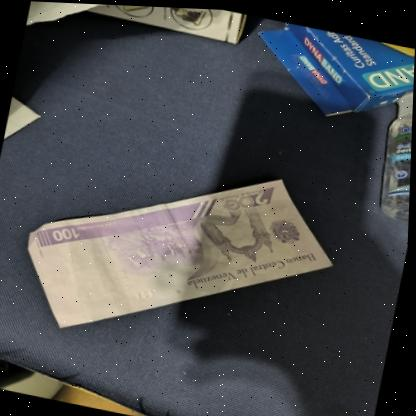one_hundred-back-vef: (12, 128, 350, 377)
